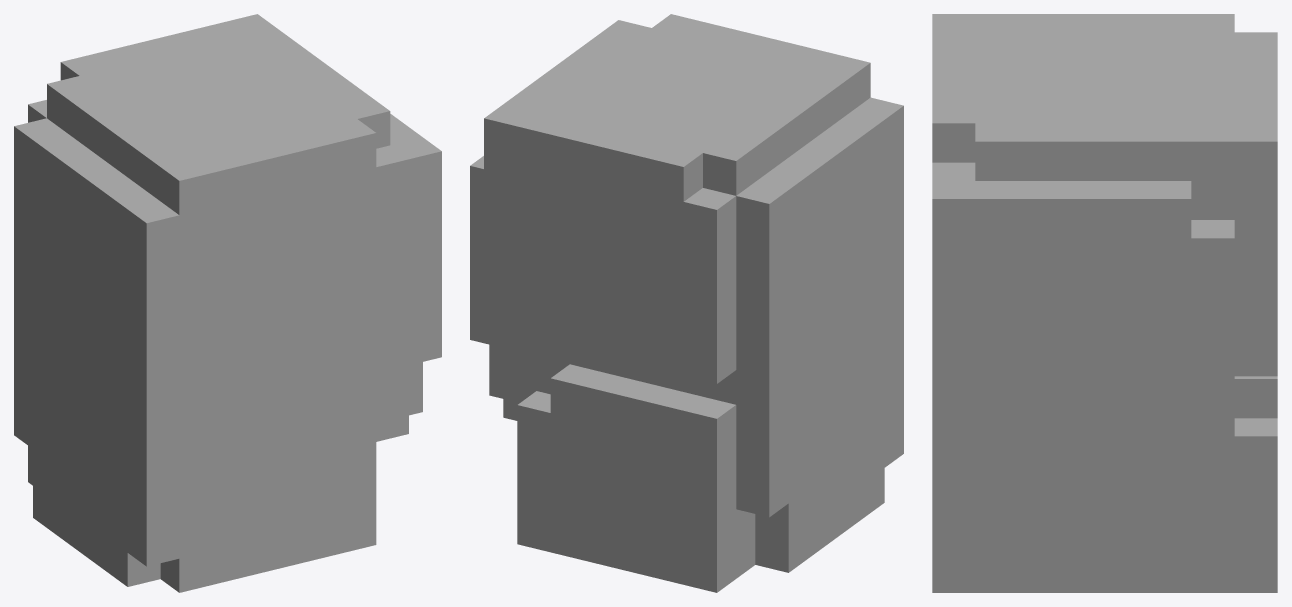
The model's file is gorilla-12-L_Thigh.obj.
3 views of the same model, side by side, from view 1: azimuth 30°, elevation 25°; view 2: azimuth 150°, elevation 25°; view 3: azimuth 270°, elevation 25° (orthographic). The views are drawn at different scales.
Parts seen in each view (by area): view 1: L_Thigh; view 2: L_Thigh; view 3: L_Thigh.
Boxes of the visible parts, box(x1,y1,x2,y2) form: L_Thigh: box(14, 14, 441, 592); L_Thigh: box(470, 14, 903, 592); L_Thigh: box(932, 14, 1277, 592).
Size of the model in its own units: 0.9 by 1.2 by 0.8.
1 material, 1 textured.
